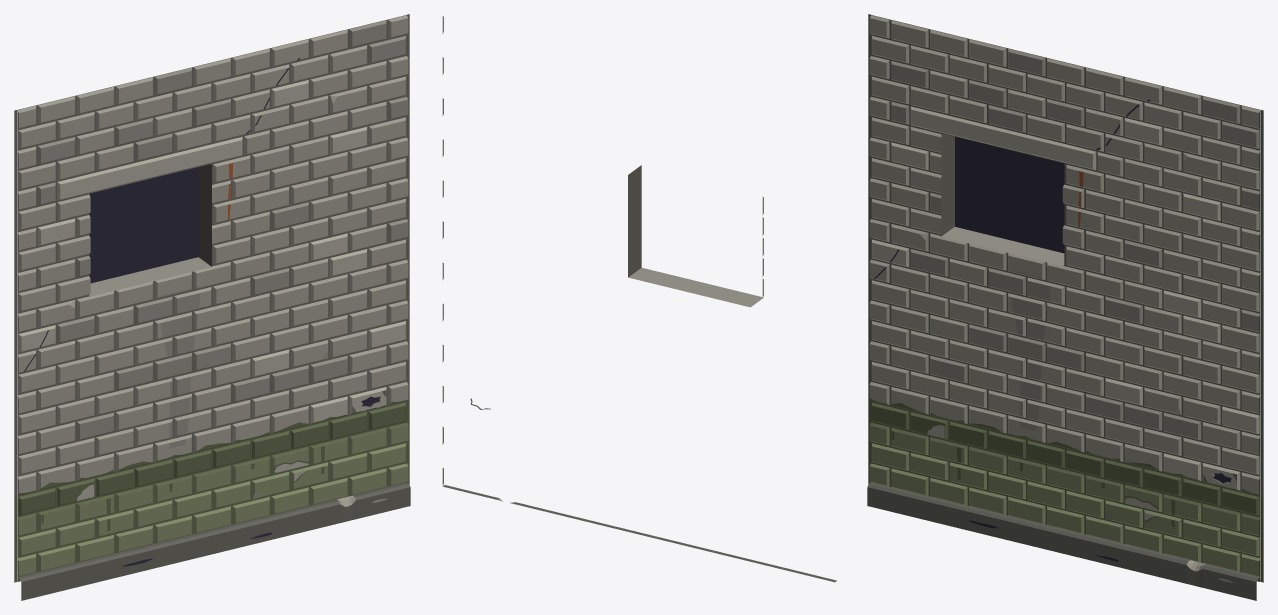
Rendered from wall_panel_window.glb.
3 views of the same model, side by side, from view 1: azimuth 30°, elevation 25°; view 2: azimuth 150°, elevation 25°; view 3: azimuth 330°, elevation 25° (orthographic).
Visible parts, largest first — view 1: Wall; view 2: Wall; view 3: Wall.
Boxes of the visible parts, box(x1,y1,x2,y2) form: Wall: box(14, 14, 410, 600); Wall: box(442, 16, 836, 582); Wall: box(867, 14, 1263, 600).
Size of the model in its own units: 5.08 by 6 by 0.3525.
